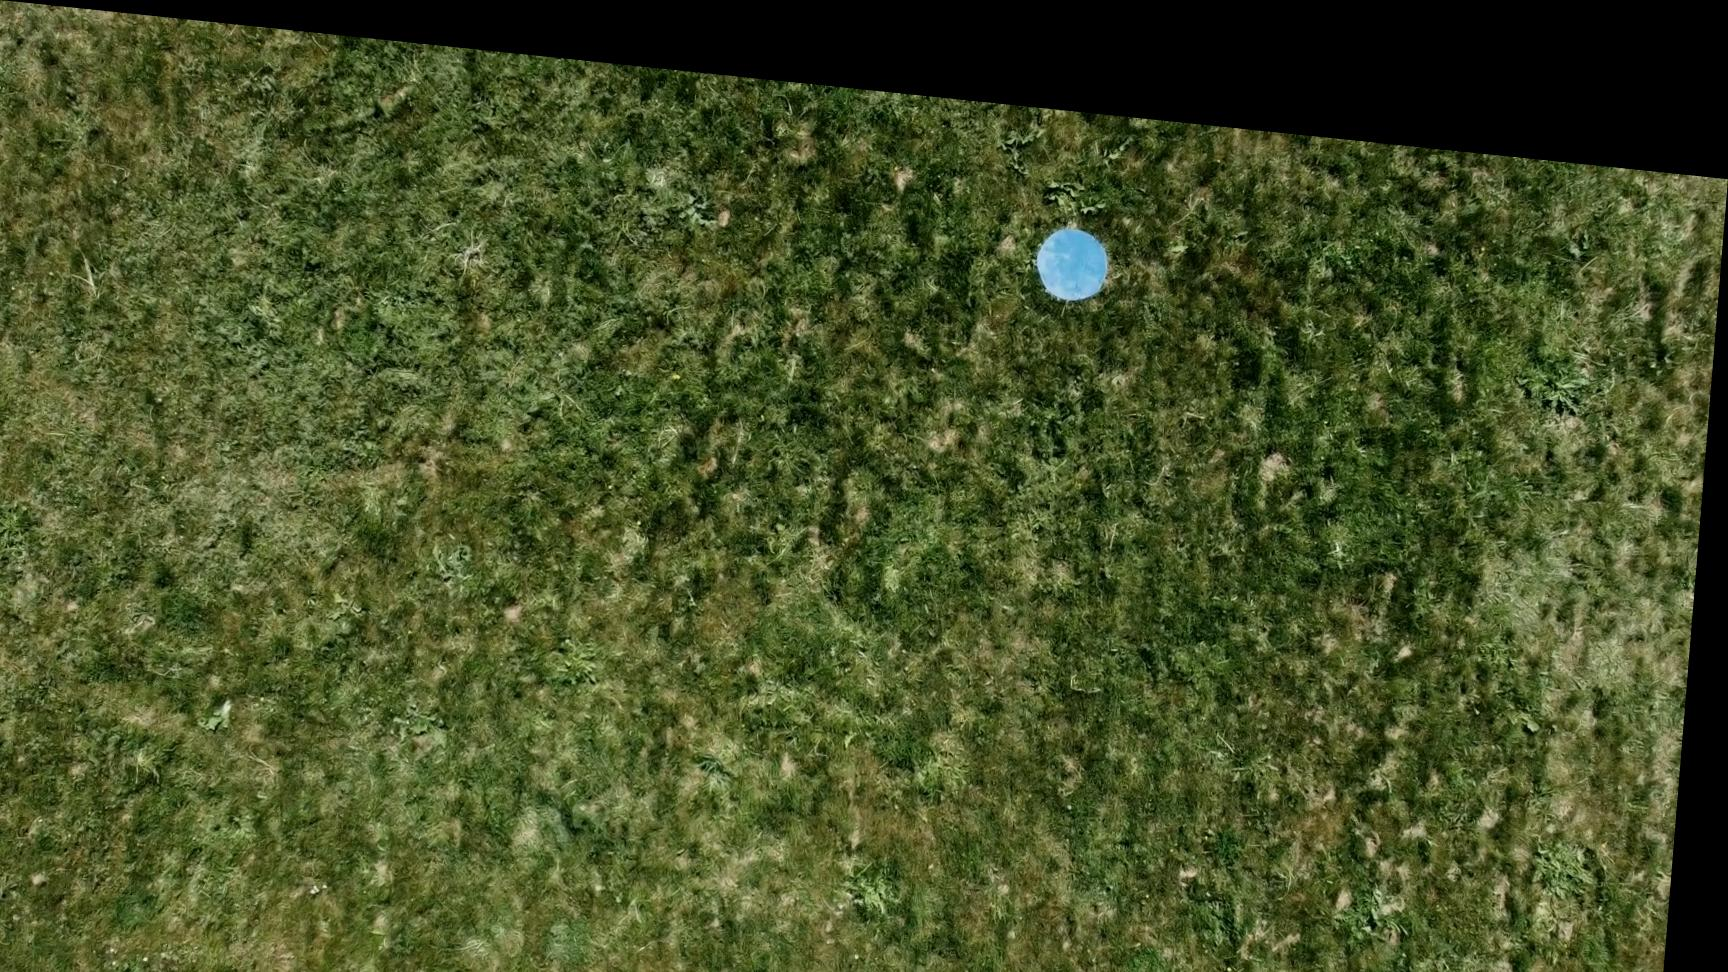Blue: (1034, 199, 1114, 284)
